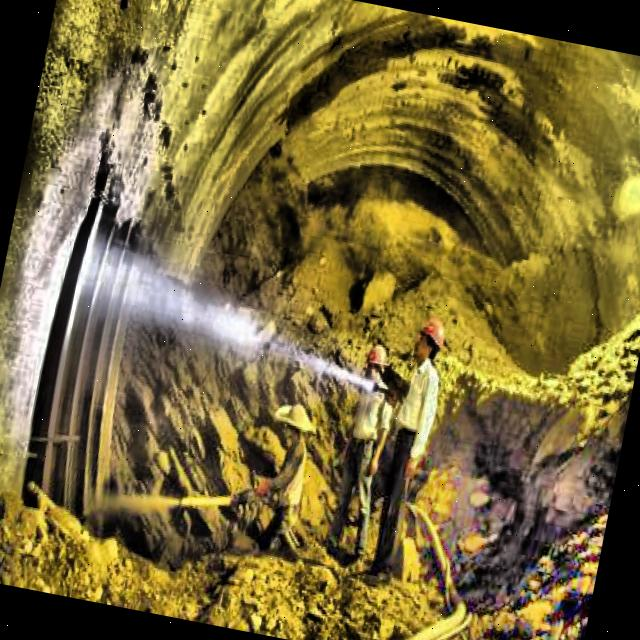helmet: (406, 308, 453, 376), (361, 338, 395, 389)
